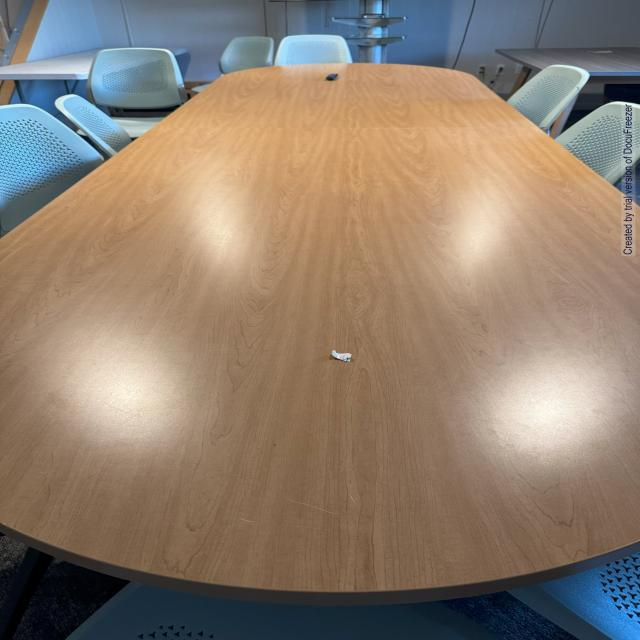Table: (25, 52, 640, 602)
